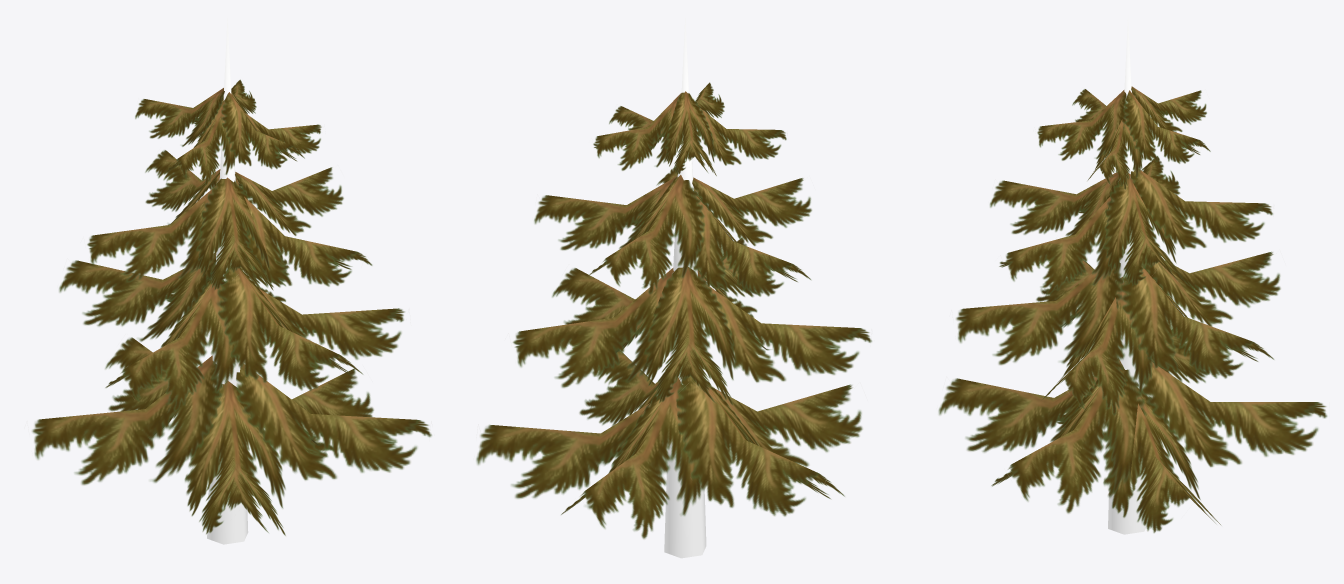
The picture shows the model from 3 angles, left to right: view 1: azimuth 30°, elevation 25°; view 2: azimuth 150°, elevation 25°; view 3: azimuth 270°, elevation 25°; orthographic projection. The views are drawn at different scales.
Parts seen in each view (by area): view 1: branches, trunk; view 2: branches, trunk; view 3: branches, trunk.
Part boxes in pixels (<box>): branches: <box>25,79,431,535</box>; trunk: <box>207,17,248,544</box>; branches: <box>476,82,871,538</box>; trunk: <box>664,17,706,558</box>; branches: <box>938,86,1327,532</box>; trunk: <box>1108,15,1147,534</box>.
Size of the model in its own units: 259 by 350 by 252.
2 materials, 1 textured.
